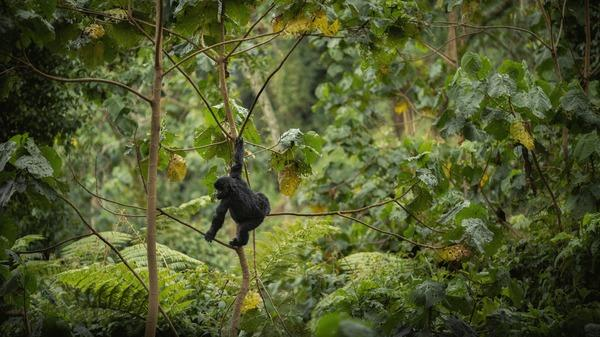goriile_montagne: (191, 135, 279, 248)
